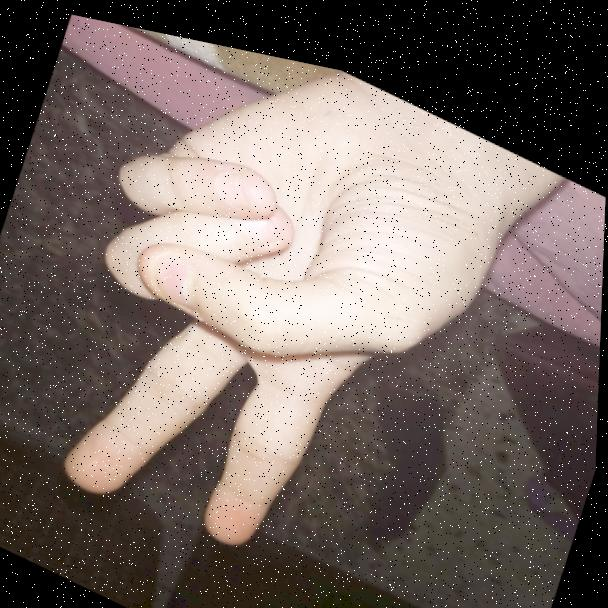two: (7, 11, 504, 608)
